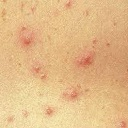Chickenpox: (18, 27, 40, 53), (67, 88, 81, 102), (80, 54, 96, 65)
